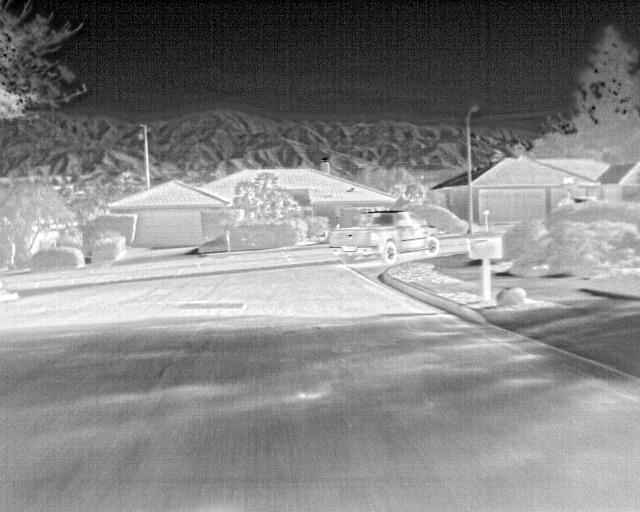vehicle: (327, 211, 441, 260)
